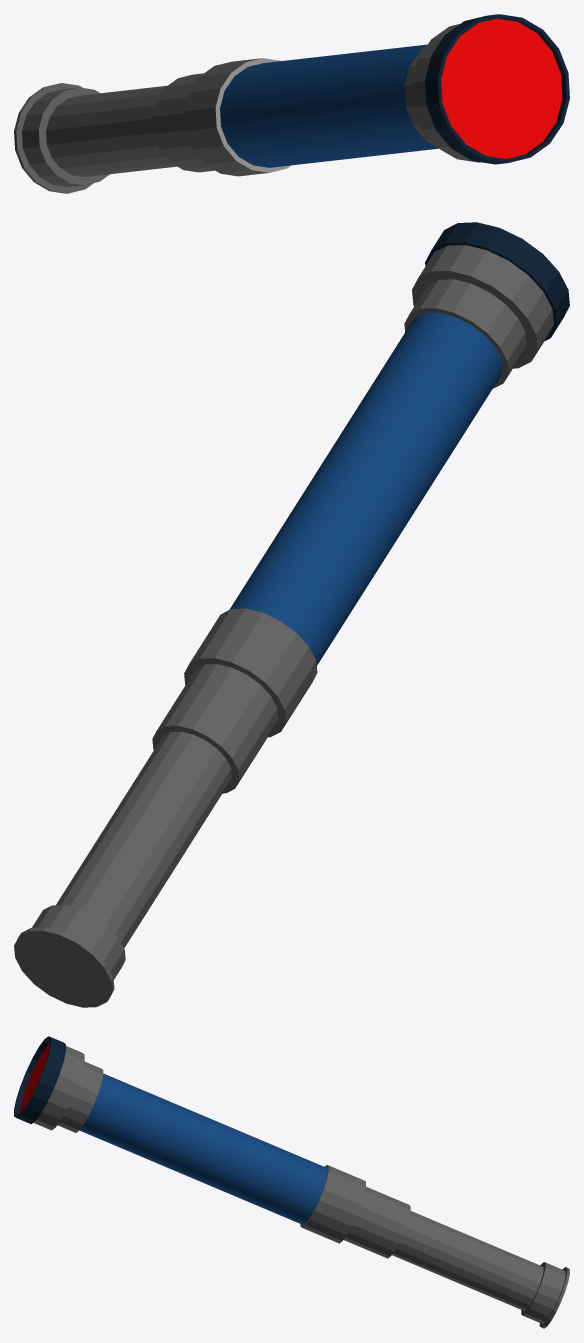
Rendered from Telescope-Base.FBX.
The picture shows the model from 3 angles, top to bottom: view 1: azimuth 30°, elevation 25°; view 2: azimuth 150°, elevation 25°; view 3: azimuth 270°, elevation 25°; orthographic projection. The views are drawn at different scales.
Visible parts, largest first — view 1: Cylinder001; view 2: Cylinder001; view 3: Cylinder001.
Part boxes in pixels (x1=…): Cylinder001: x1=14, y1=14, x2=569, y2=193; Cylinder001: x1=14, y1=222, x2=569, y2=1007; Cylinder001: x1=14, y1=1036, x2=569, y2=1328.
Size of the model in its own units: 29.52 by 104 by 185.
